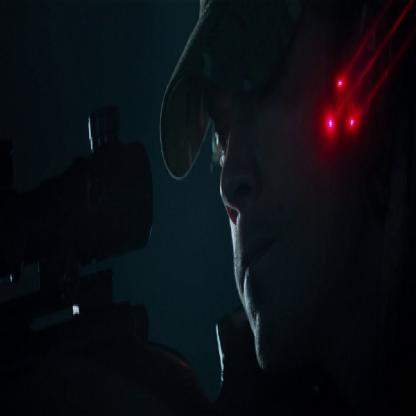Guns: (0, 98, 225, 412)
